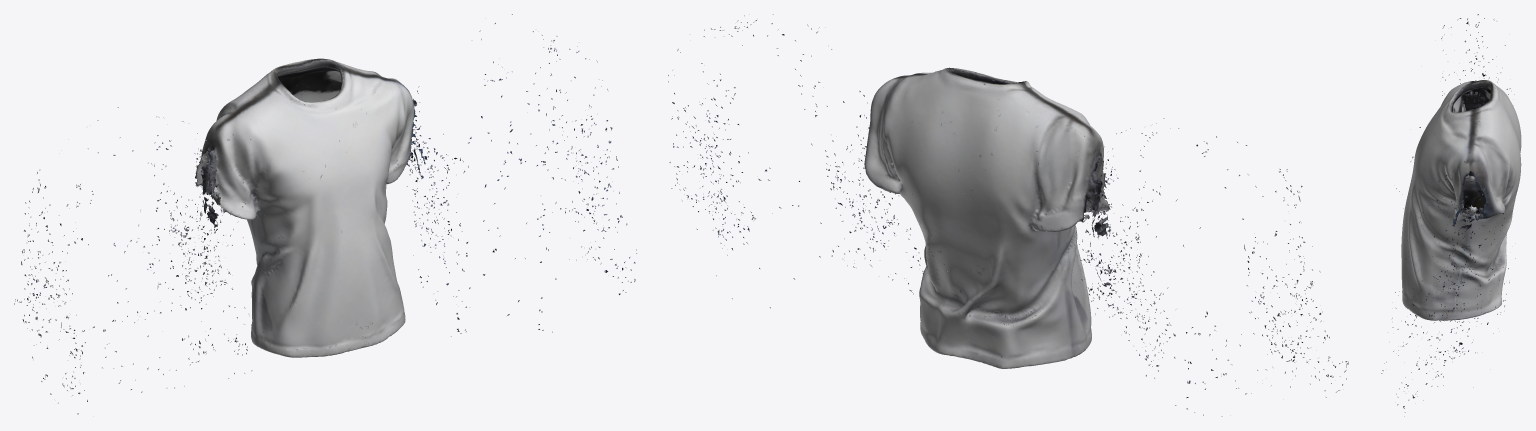
The model's file is Baju_AR_Base.glb.
3 views of the same model, side by side, from view 1: azimuth 30°, elevation 25°; view 2: azimuth 150°, elevation 25°; view 3: azimuth 270°, elevation 25° (orthographic). The views are drawn at different scales.
Parts seen in each view (by area): view 1: Mesh_0.7852, Mesh_0.6228, Mesh_0.957, Mesh_0.071, Mesh_0.6539, Mesh_0.007; view 2: Mesh_0.007, Mesh_0.008, Mesh_0.222, Mesh_0.193, Mesh_0.957, Mesh_0.7852, Mesh_0.888, Mesh_0.379; view 3: Mesh_0.6228, Mesh_0.008, Mesh_0.193, Mesh_0.957, Mesh_0.1845, Mesh_0.060, Mesh_0.070, Mesh_0.5566, Mesh_0.2989.
Boxes of the visible parts, bbox=[...] form: Mesh_0.7852: bbox=[229, 134, 365, 357]; Mesh_0.6228: bbox=[309, 83, 415, 352]; Mesh_0.957: bbox=[212, 58, 398, 179]; Mesh_0.071: bbox=[277, 61, 341, 102]; Mesh_0.6539: bbox=[213, 137, 248, 204]; Mesh_0.007: bbox=[247, 71, 271, 344]; Mesh_0.007: bbox=[918, 86, 1089, 368]; Mesh_0.008: bbox=[864, 69, 1004, 278]; Mesh_0.222: bbox=[1037, 125, 1100, 232]; Mesh_0.193: bbox=[919, 243, 1000, 353]; Mesh_0.957: bbox=[891, 67, 1100, 140]; Mesh_0.7852: bbox=[1054, 125, 1091, 351]; Mesh_0.888: bbox=[966, 335, 1003, 367]; Mesh_0.379: bbox=[1031, 158, 1078, 230]; Mesh_0.6228: bbox=[1401, 127, 1471, 320]; Mesh_0.008: bbox=[1455, 83, 1521, 264]; Mesh_0.193: bbox=[1432, 233, 1506, 320]; Mesh_0.957: bbox=[1418, 80, 1499, 151]; Mesh_0.1845: bbox=[1463, 176, 1486, 214]; Mesh_0.060: bbox=[1459, 195, 1514, 228]; Mesh_0.070: bbox=[1463, 88, 1490, 195]; Mesh_0.5566: bbox=[1450, 82, 1475, 111]; Mesh_0.2989: bbox=[1475, 158, 1485, 190].
Size of the model in its own units: 2 by 0.8676 by 0.5196.
1 material, 1 textured.
